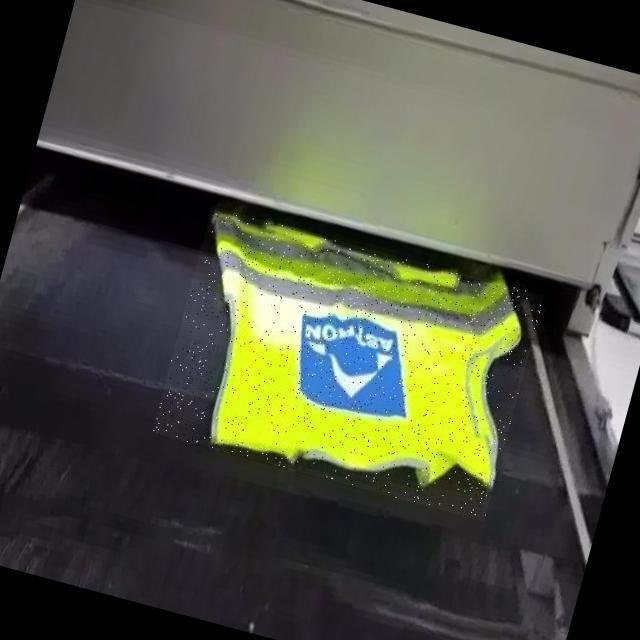Safety Vest: (151, 206, 544, 521)
